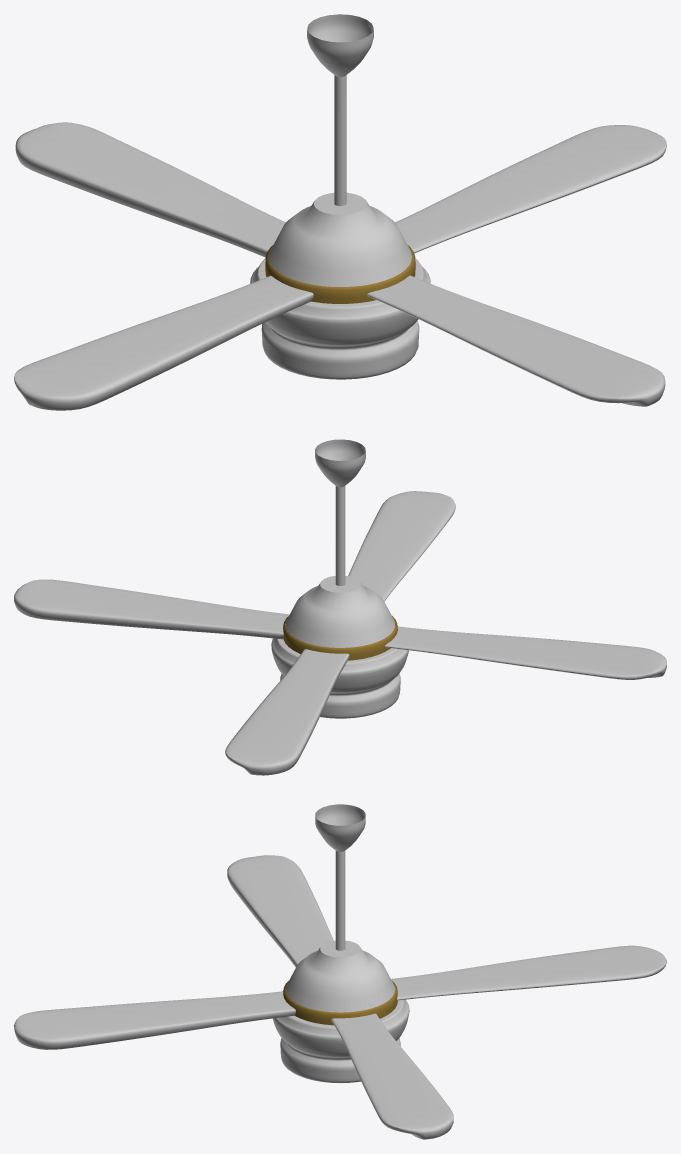
Rendered from CellingFanClean.fbx.
3 renders of one model, top to bottom at view 1: azimuth 30°, elevation 25°; view 2: azimuth 150°, elevation 25°; view 3: azimuth 270°, elevation 25°, orthographic. The views are drawn at different scales.
Parts seen in each view (by area): view 1: medium, topbottom, bottom; view 2: medium, topbottom, bottom; view 3: medium, topbottom, bottom.
Part boxes in pixels (box(x1,y1,x2,y2)): medium: box(14, 122, 666, 410); topbottom: box(269, 14, 412, 286); bottom: box(250, 258, 430, 379); medium: box(14, 491, 666, 775); topbottom: box(286, 439, 394, 647); bottom: box(271, 626, 408, 718); medium: box(14, 855, 666, 1139); topbottom: box(286, 804, 394, 1012); bottom: box(273, 999, 409, 1082).
Bounding box in the file's own units: 1069 × 441 × 1069.
